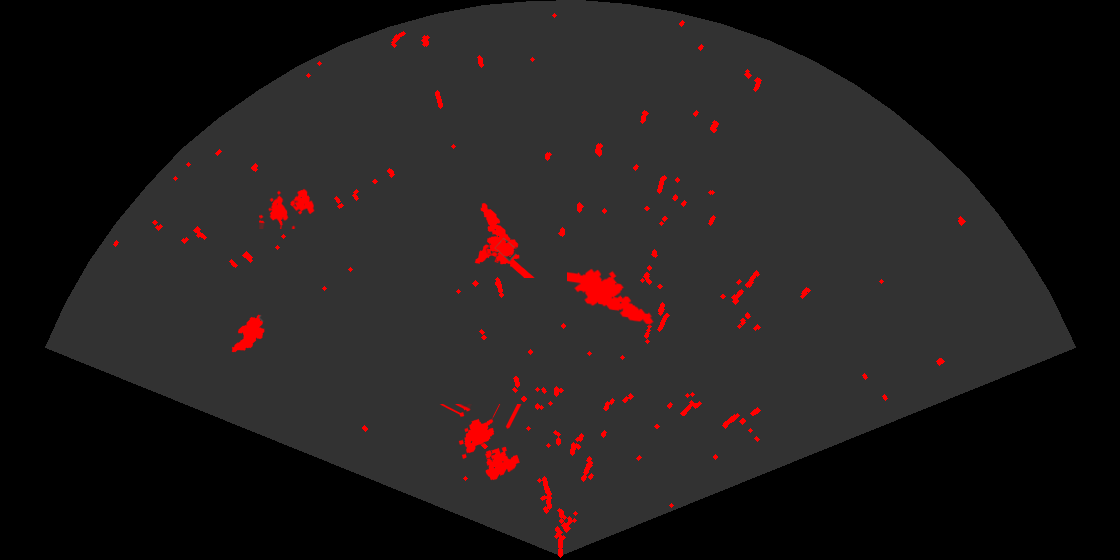AUV: (230, 313, 266, 354), (473, 236, 520, 266)
cage: (439, 404, 523, 482), (259, 187, 316, 229)
frogman: (567, 267, 655, 326), (479, 201, 536, 278)
